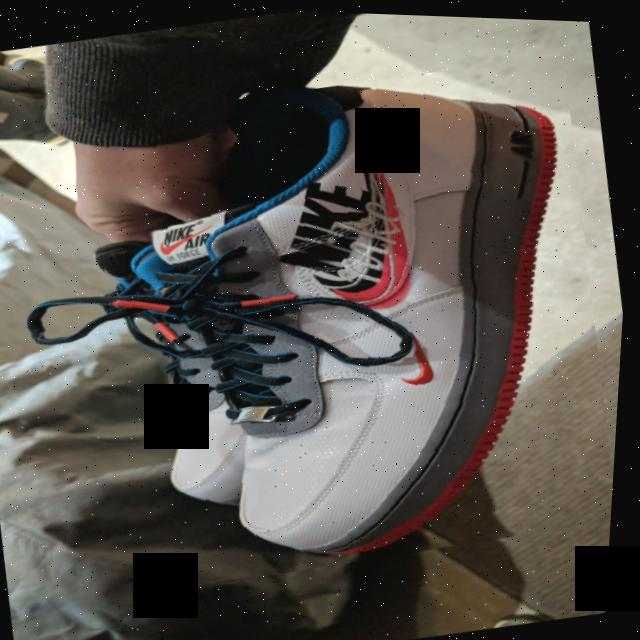shoe: (63, 36, 638, 608)
